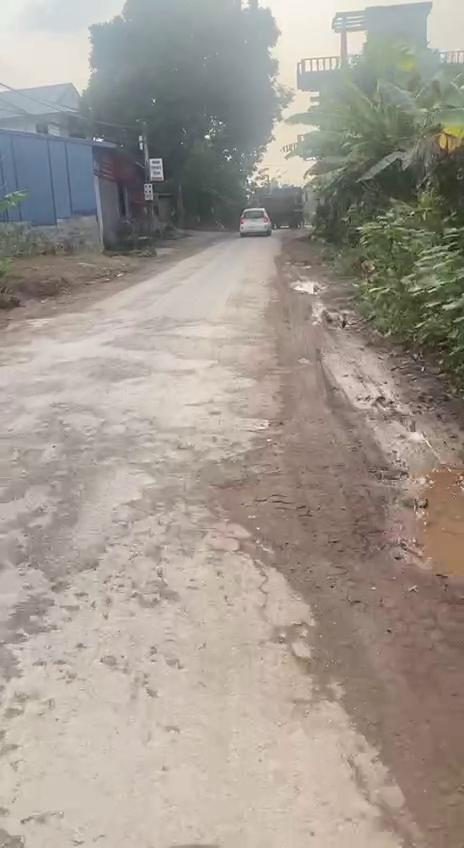pothole: (376, 454, 464, 598)
